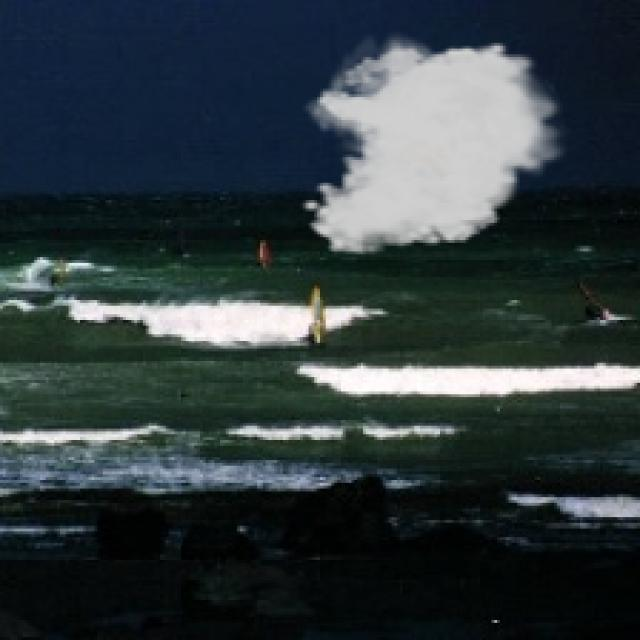smoke: (300, 29, 571, 257)
